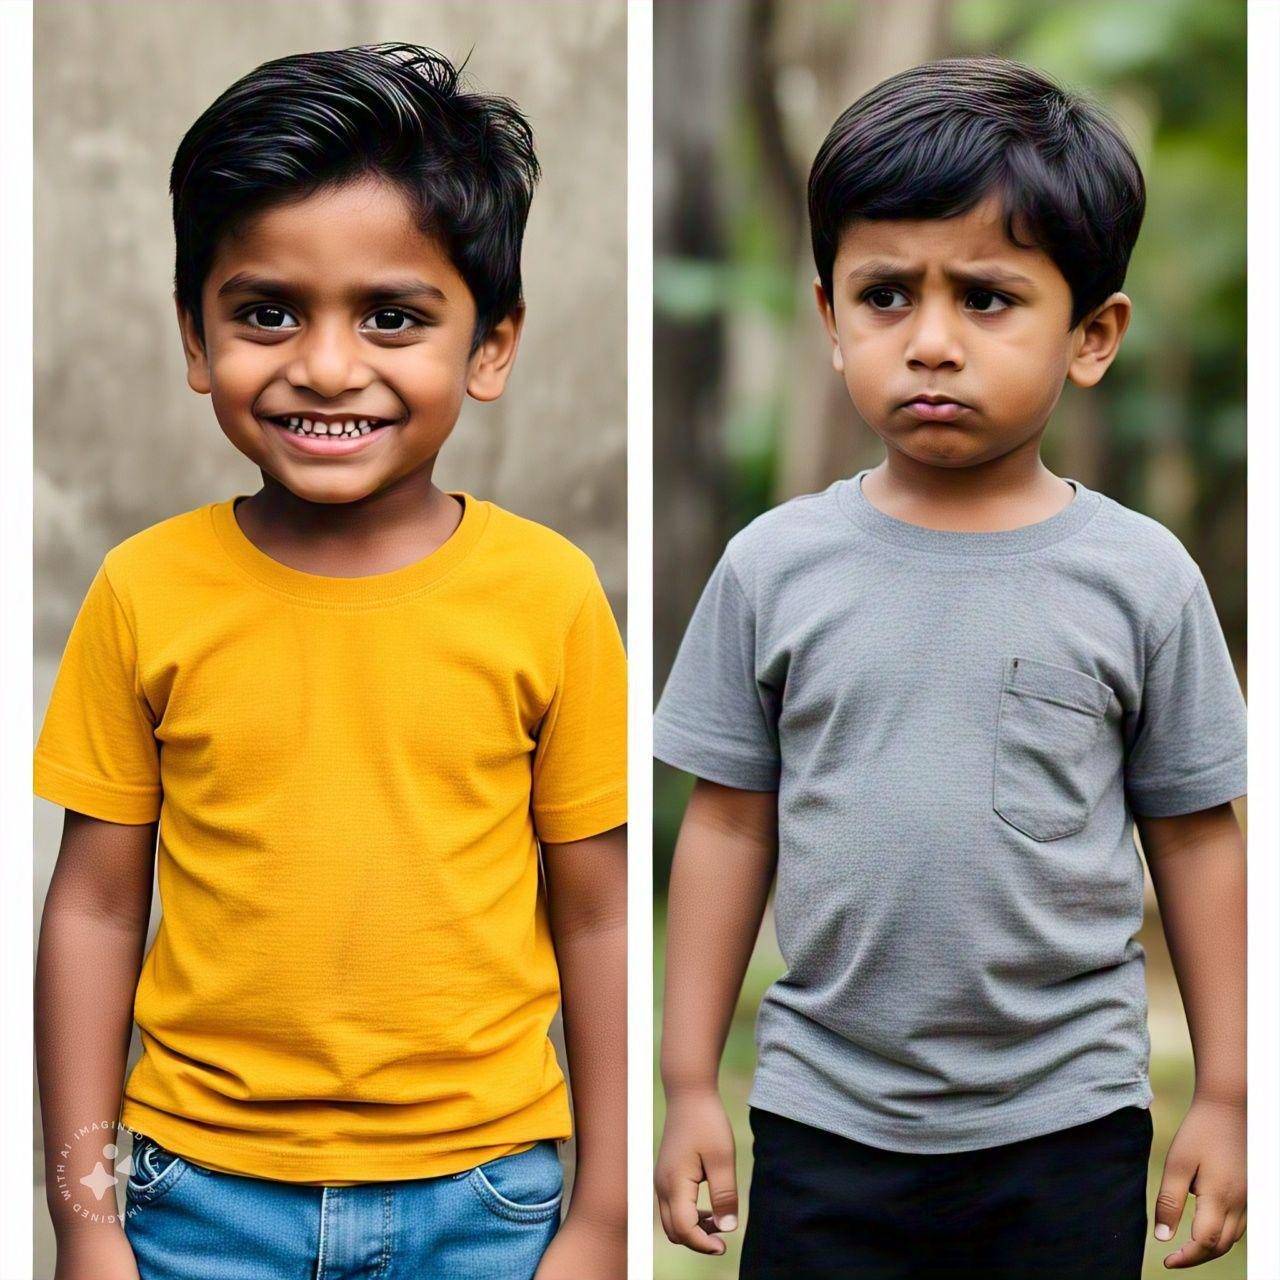feliz: (188, 105, 496, 510)
triste: (824, 98, 1088, 490)
